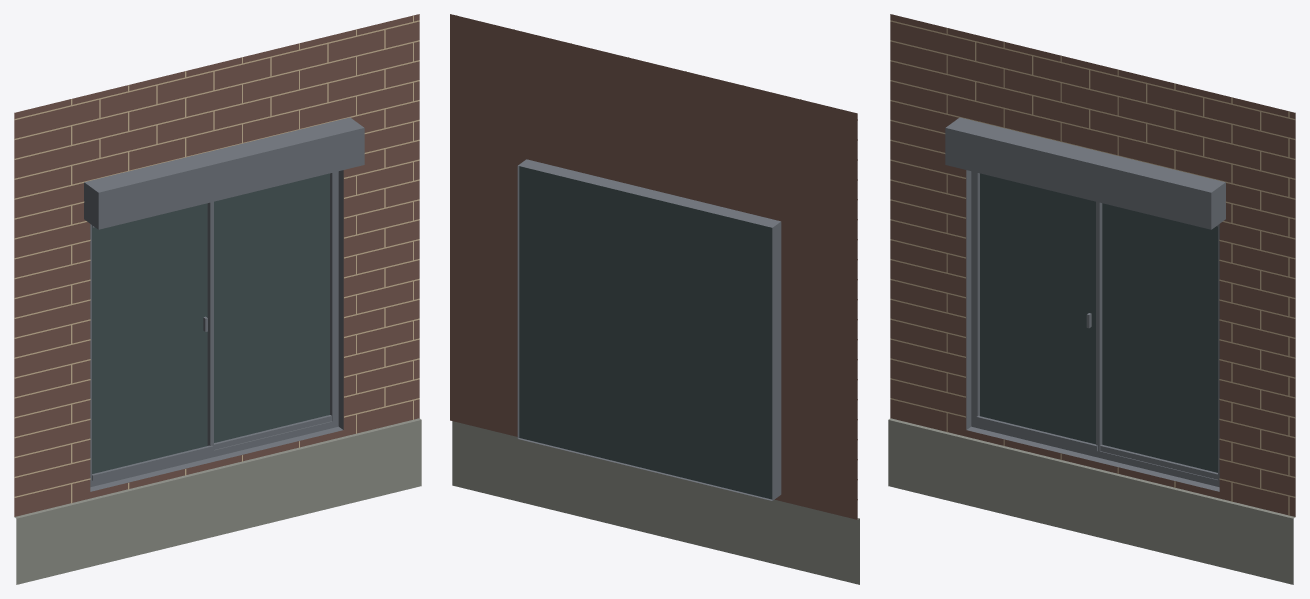
File: base-w3_close.fbx
3 views of the same model, side by side, from view 1: azimuth 30°, elevation 25°; view 2: azimuth 150°, elevation 25°; view 3: azimuth 330°, elevation 25° (orthographic).
Visible parts, largest first — view 1: a2000s2/0/base-w3_close; view 2: a2000s2/0/base-w3_close; view 3: a2000s2/0/base-w3_close.
Boxes of the visible parts, box(x1,y1,x2,y2) form: a2000s2/0/base-w3_close: box(14, 14, 421, 584); a2000s2/0/base-w3_close: box(450, 14, 859, 584); a2000s2/0/base-w3_close: box(888, 14, 1295, 584).
Size of the model in its own units: 3.2 by 3.55 by 0.32.
